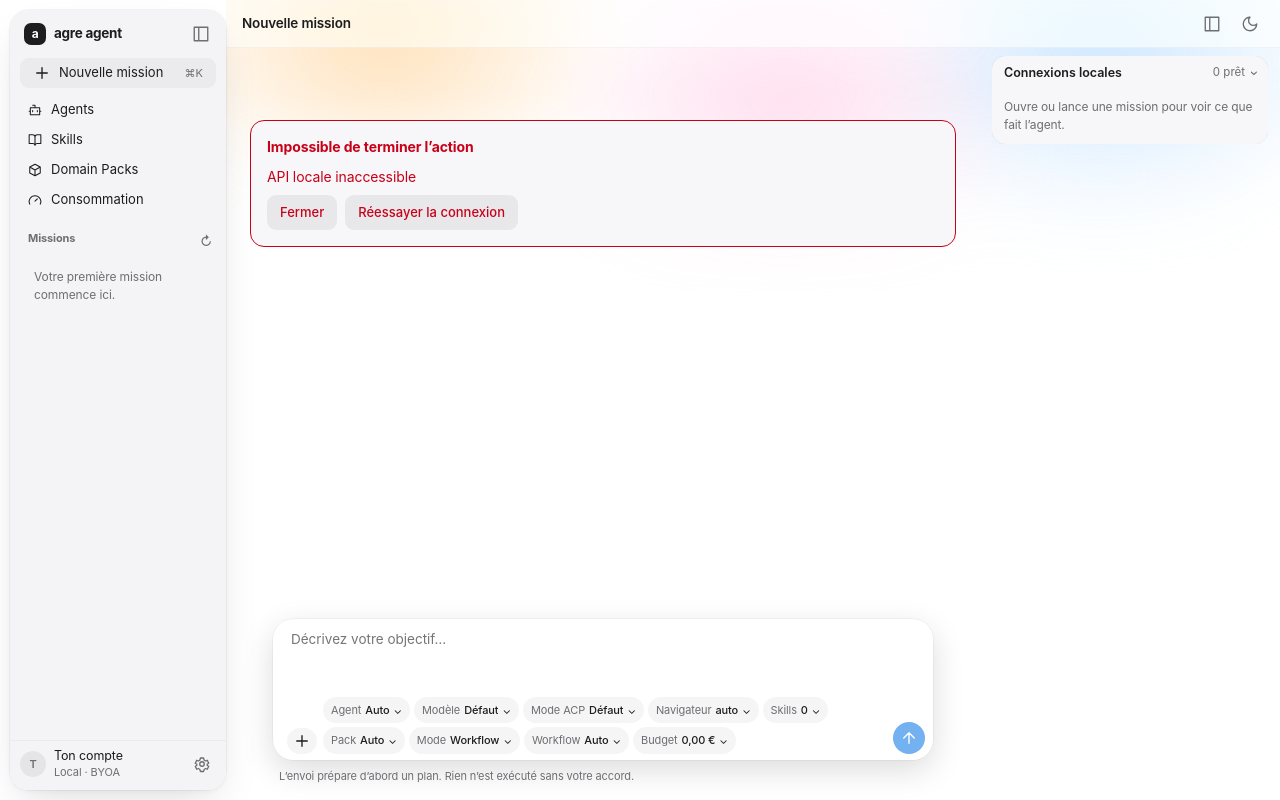
Test: une API indisponible affiche une action de reconnexion
This screenshot has width=1280, height=800.
Expected: the message is shown, [250,120,956,247]
Click the button "Réessayer la connexion".
click(432, 213)  # box [345,195,518,230]
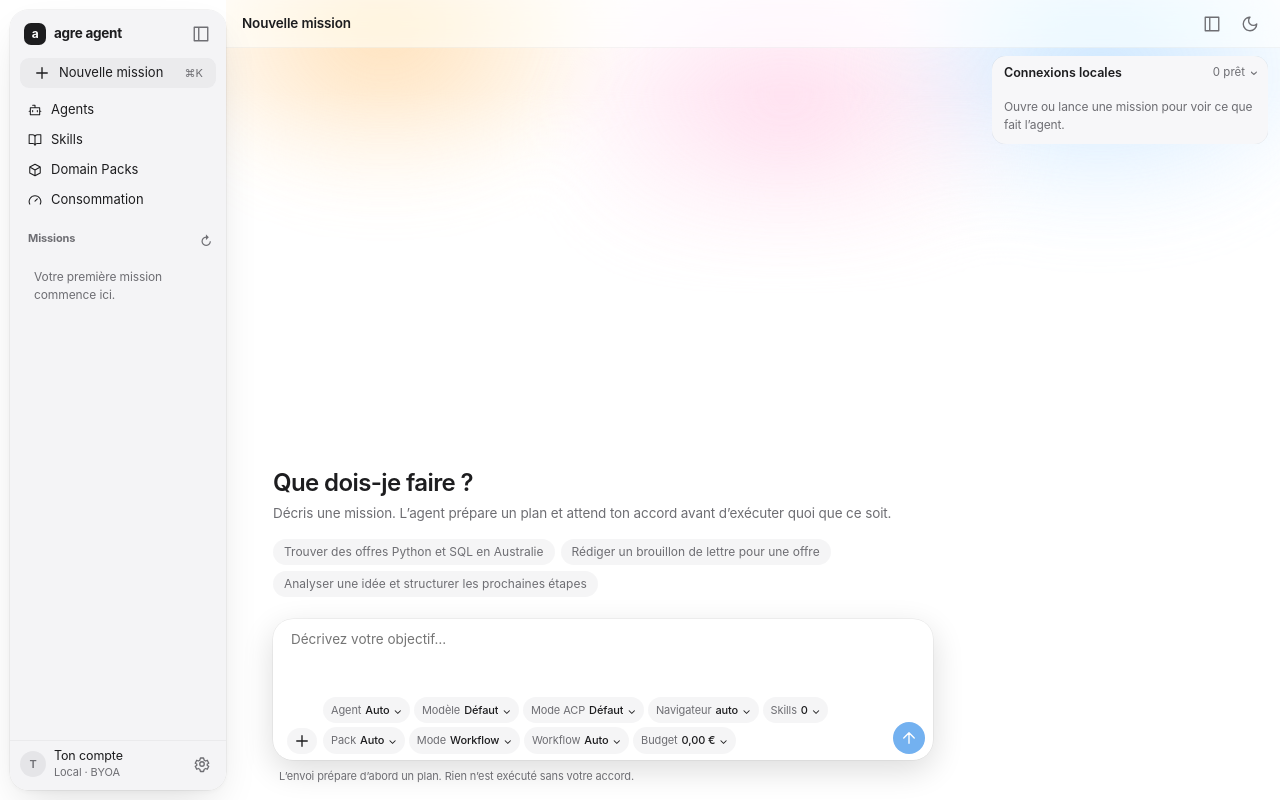
Expected: the message is gone
